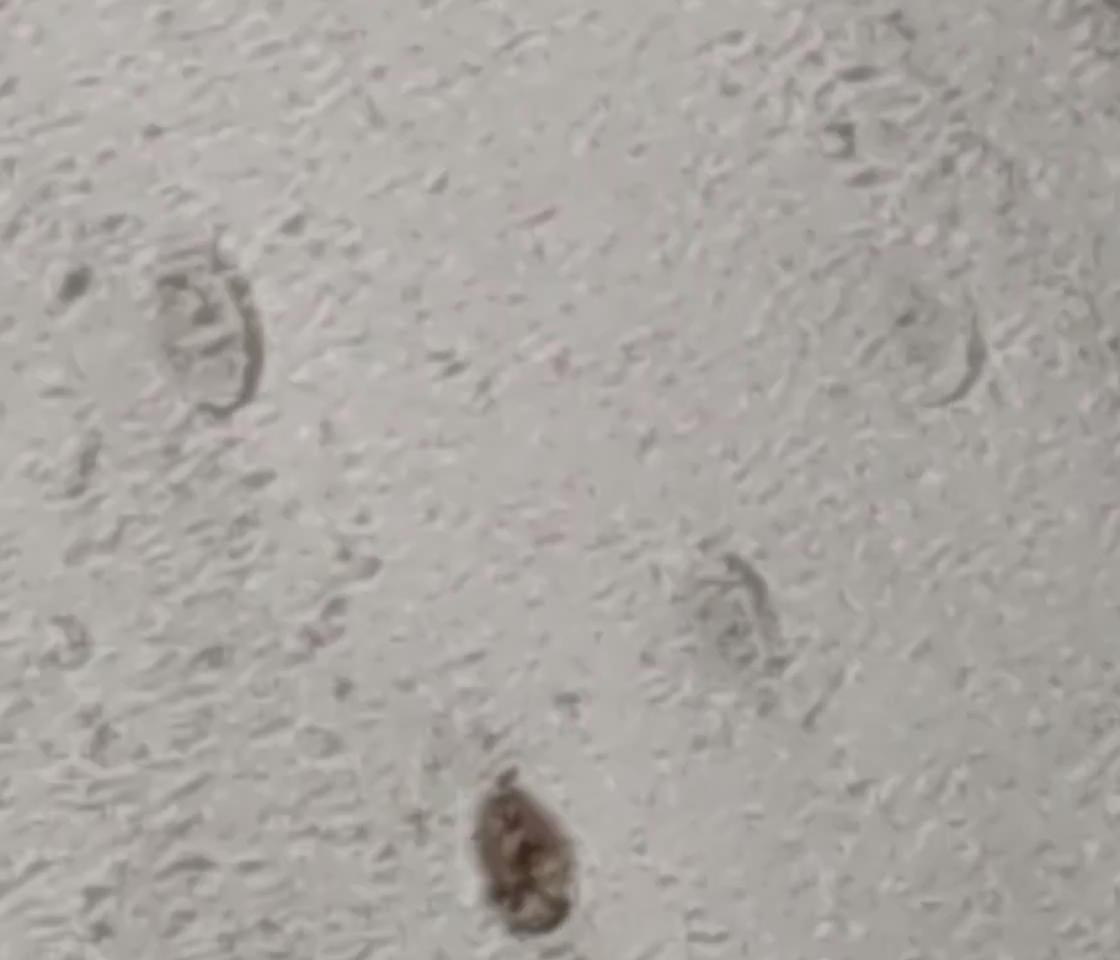rust: (467, 787, 584, 935)
